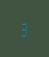three: (19, 19, 27, 37)
